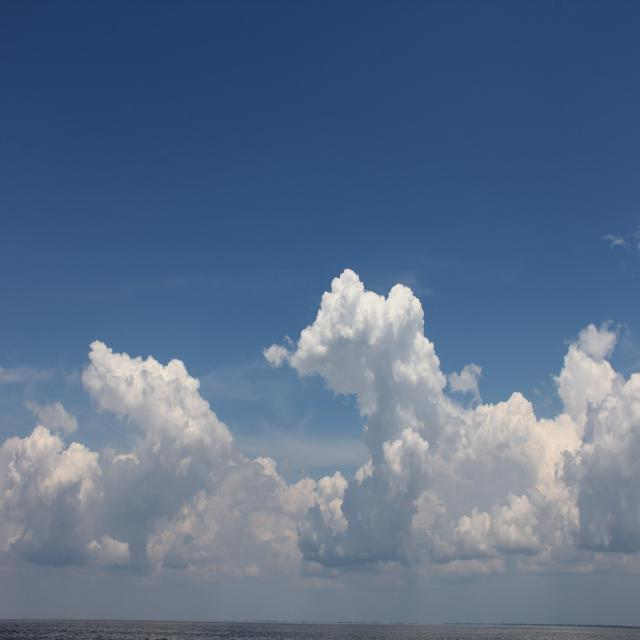cumulus: (4, 266, 636, 578)
